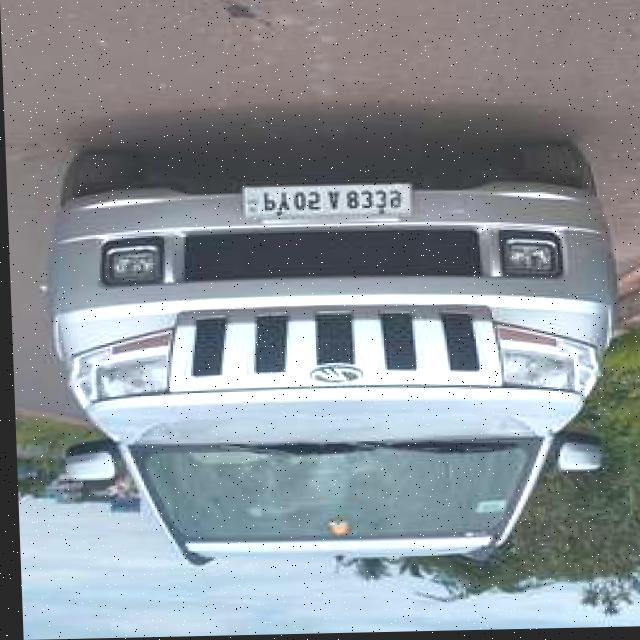plate: (239, 183, 413, 221)
